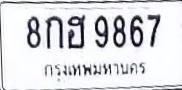6: (130, 15, 144, 47)
7: (147, 13, 160, 47)
8: (27, 16, 41, 48), (113, 14, 126, 47)
9: (95, 15, 108, 48)
A01: (45, 15, 63, 48)
A44: (67, 15, 85, 49)
BKK: (41, 59, 147, 84)
